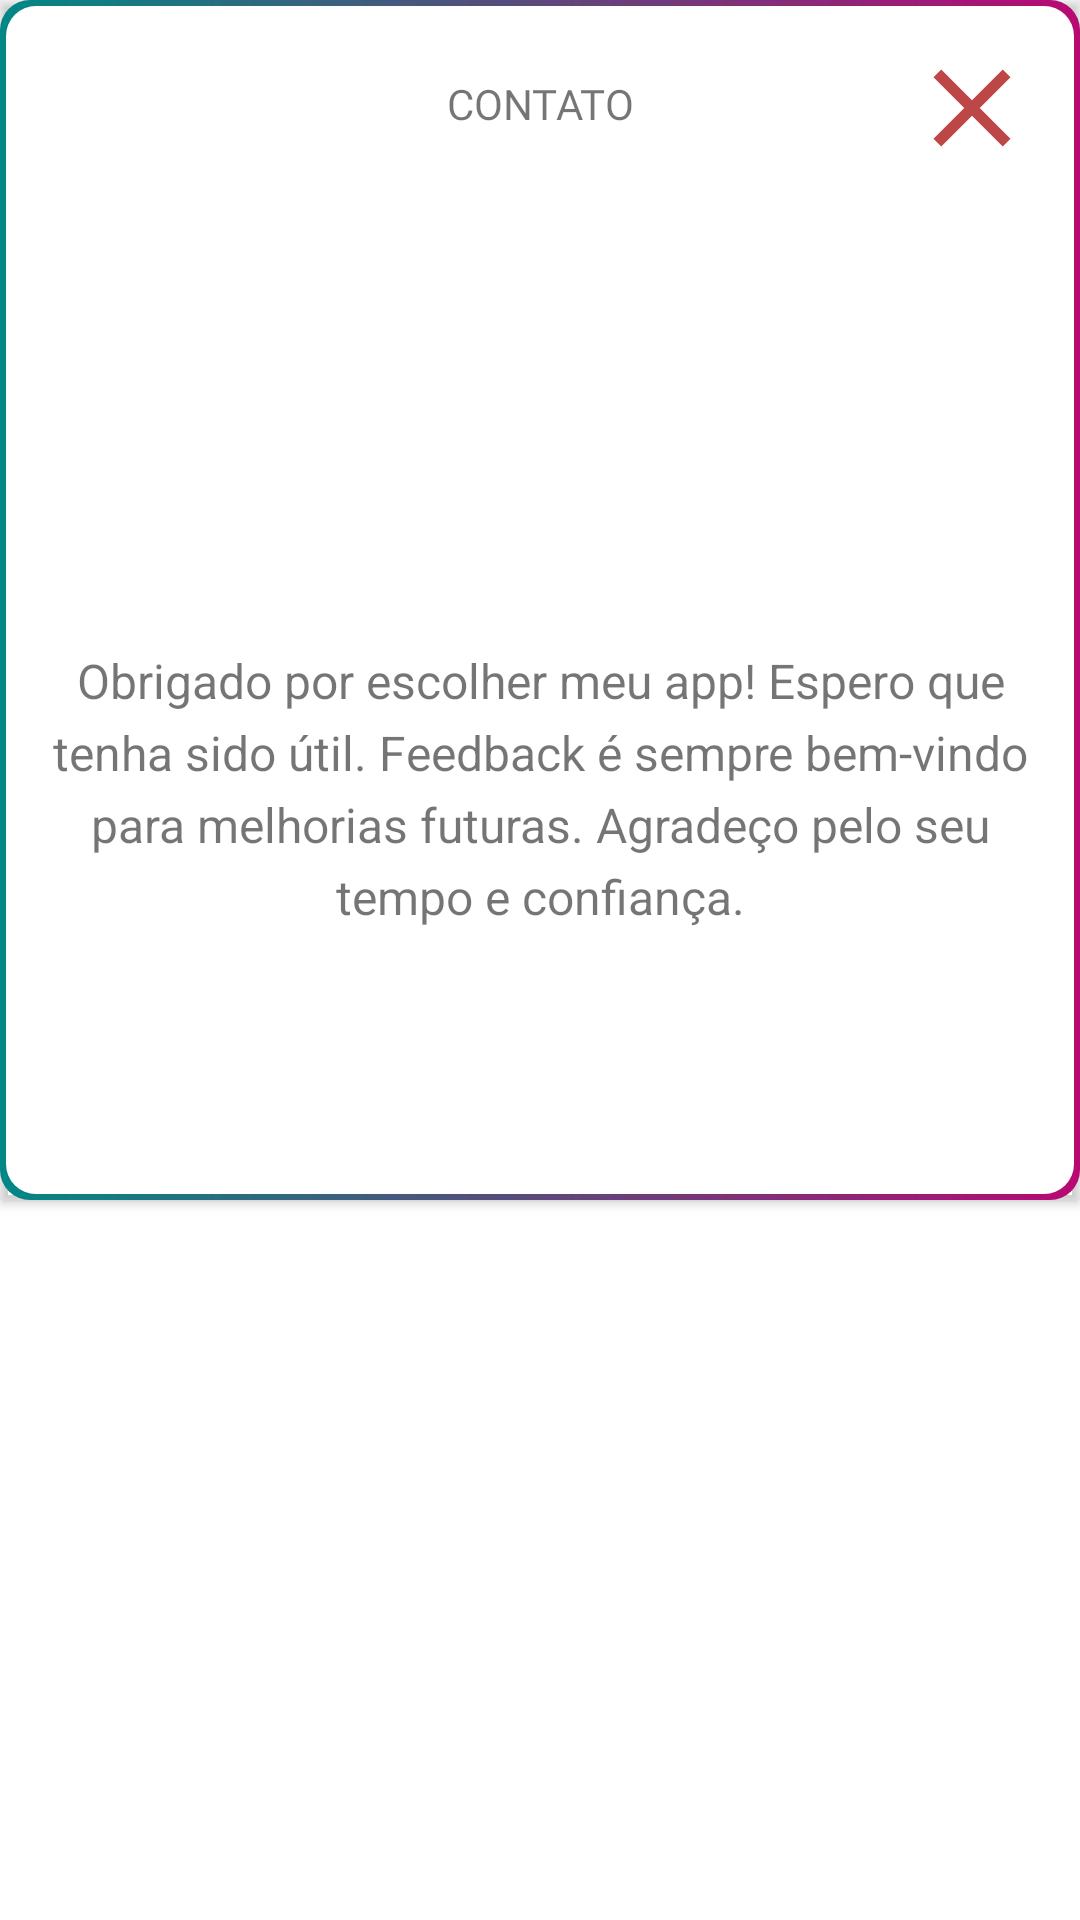

Where to tap for icons on this 1080px×1920px app screen, as [x,y]:
close: [972,108]
